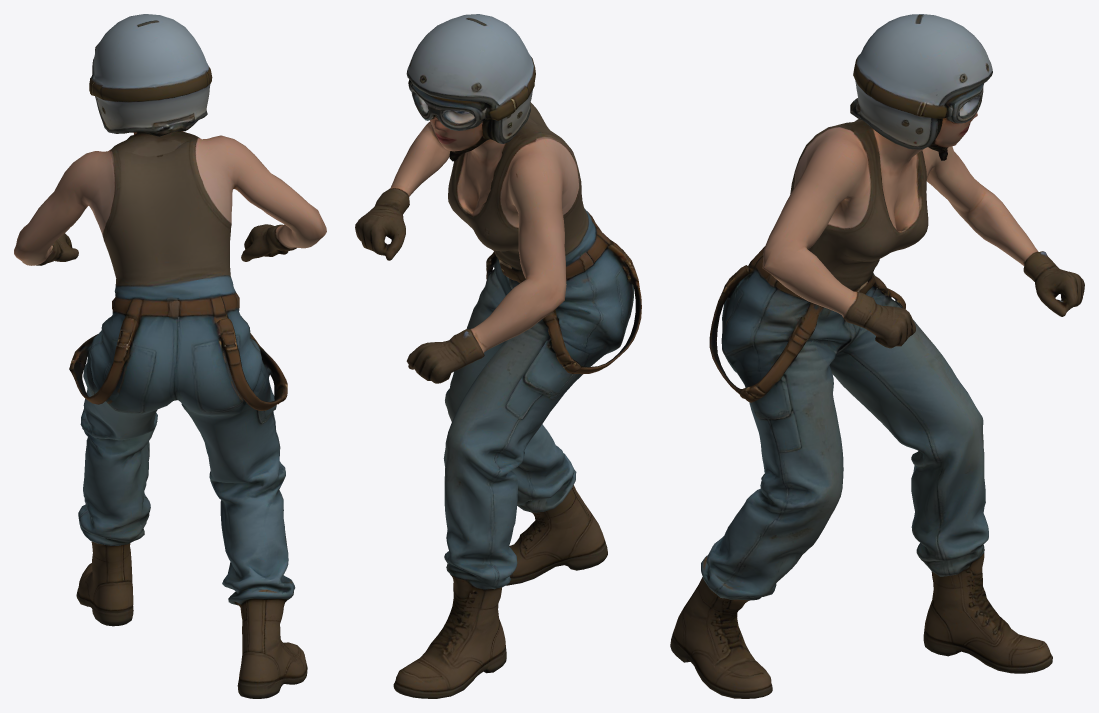
File: female_combat_crouch.glb
3 renders of one model, left to right at view 1: azimuth 30°, elevation 25°; view 2: azimuth 150°, elevation 25°; view 3: azimuth 270°, elevation 25°, orthographic. The views are drawn at different scales.
Visible parts, largest first — view 1: tripo_node_646d95e0-c2cf-4ffa-bc8b-e09b9e047321; view 2: tripo_node_646d95e0-c2cf-4ffa-bc8b-e09b9e047321; view 3: tripo_node_646d95e0-c2cf-4ffa-bc8b-e09b9e047321.
Part boxes in pixels (<box>): tripo_node_646d95e0-c2cf-4ffa-bc8b-e09b9e047321: <box>14,14,326,698</box>; tripo_node_646d95e0-c2cf-4ffa-bc8b-e09b9e047321: <box>355,14,641,698</box>; tripo_node_646d95e0-c2cf-4ffa-bc8b-e09b9e047321: <box>670,14,1084,698</box>.
Bounding box in the file's own units: 0.5346 × 1.31 × 0.7634.
Materials: 1 (1 with a texture image).
